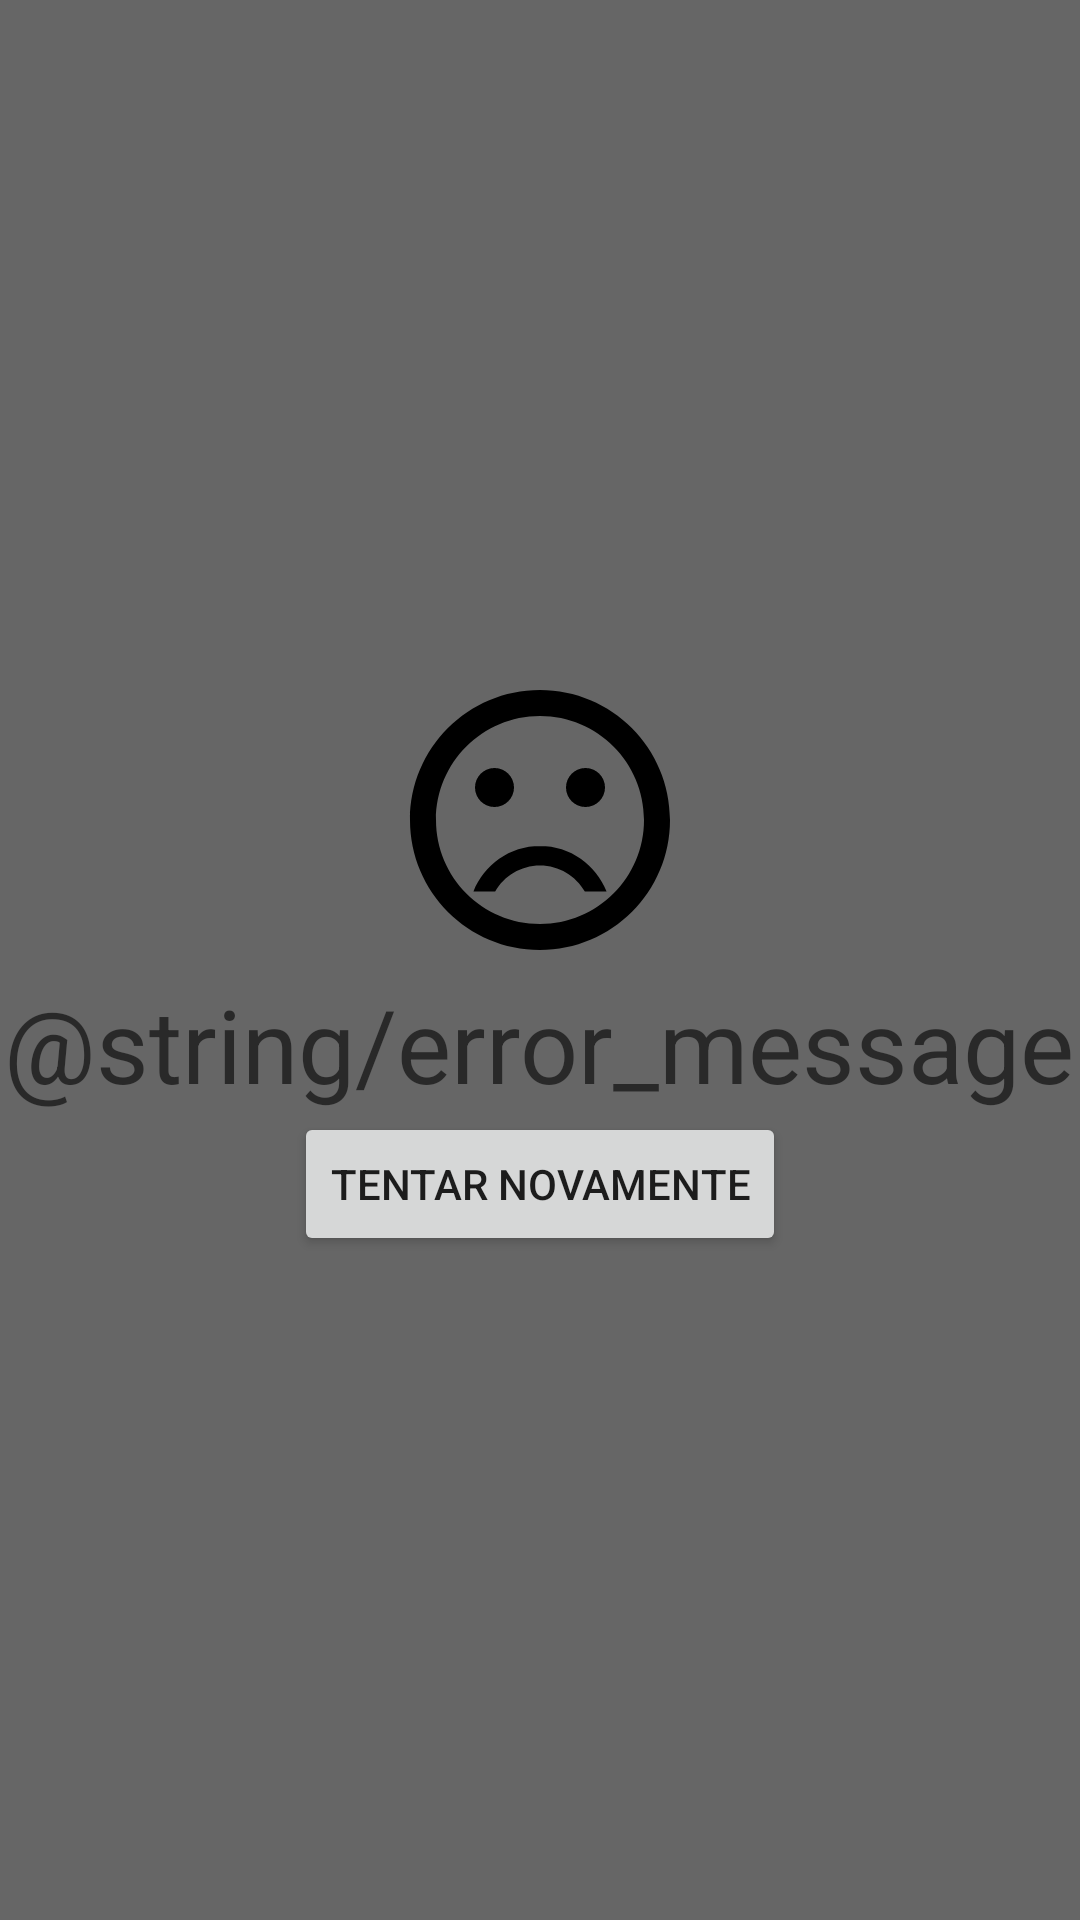

Named icons in this screenshot (1080 × 1920) and their bounding boxes, (left=x1, top=y1, right=x2, bottom=y2):
sentiment dissatisfied: (left=410, top=690, right=670, bottom=950)
